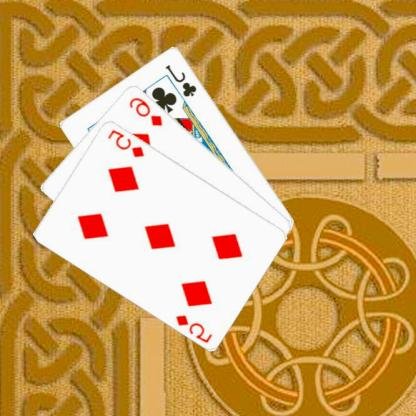5D: (174, 311, 216, 344), (107, 126, 148, 159)
6D: (128, 94, 166, 127)
JC: (164, 61, 200, 98)
